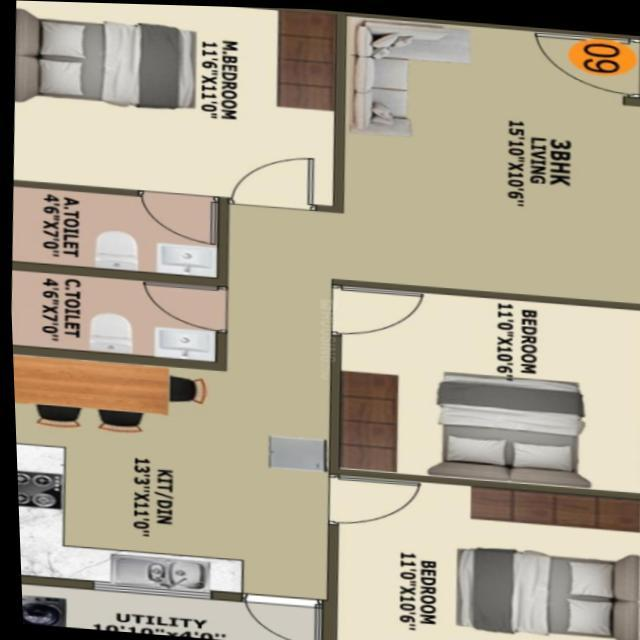Bedroom: (331, 280, 640, 491), (326, 469, 640, 640)
Bedroom with Toilet: (10, 0, 338, 279)
Dining: (10, 352, 201, 440)
Enterance-Foyer: (528, 23, 640, 96)
Kitchen: (13, 434, 326, 599)
Living: (334, 9, 640, 302)
Toilet: (9, 265, 222, 362), (10, 180, 217, 277)
Utility: (17, 578, 322, 640)
